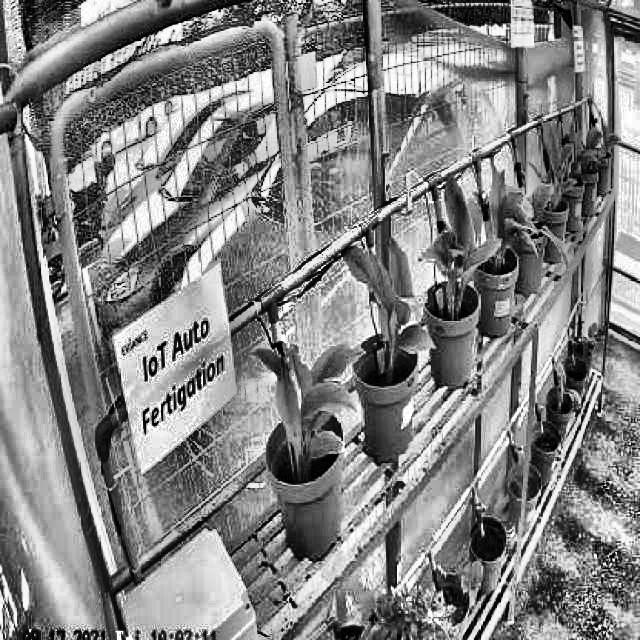plants: (252, 342, 365, 464), (340, 236, 434, 355), (420, 174, 494, 308), (484, 153, 538, 270), (538, 125, 574, 213)
